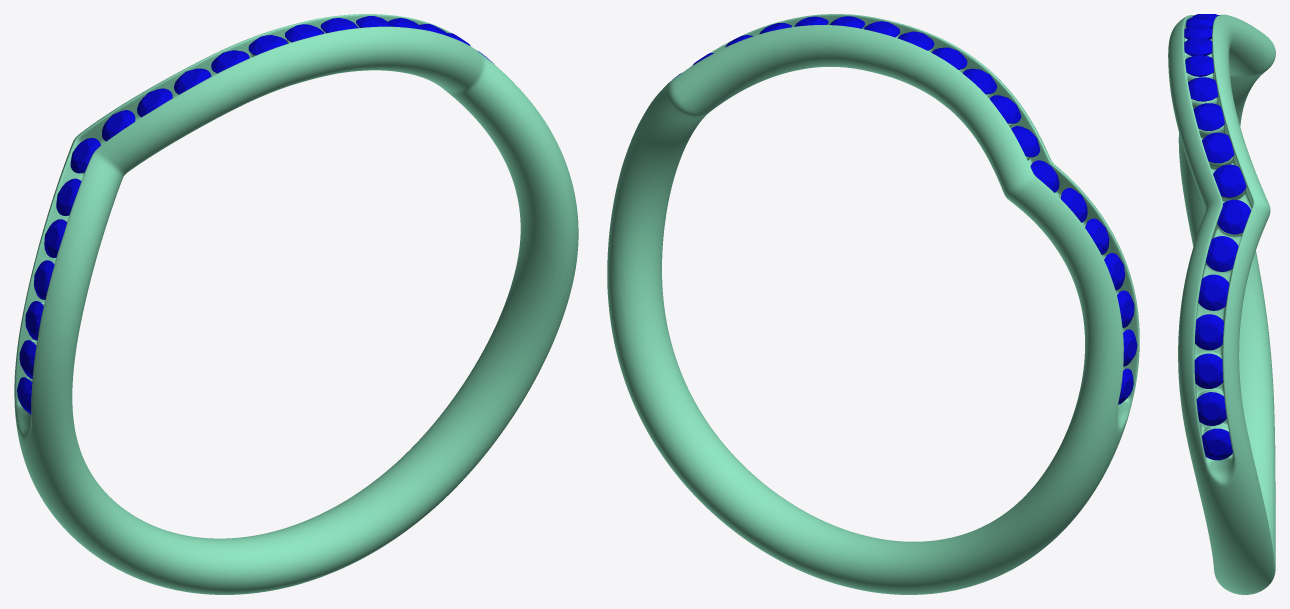
The picture shows the model from 3 angles, left to right: view 1: azimuth 30°, elevation 25°; view 2: azimuth 150°, elevation 25°; view 3: azimuth 270°, elevation 25°; orthographic projection. The views are drawn at different scales.
Visible parts, largest first — view 1: Metal03; view 2: Metal03; view 3: Metal03, Diamond_Band.011, Diamond_Band.010, Diamond_Band.012, Diamond_Band.009, Diamond_Band.003, Diamond_Band.008, Diamond_Band.007, Diamond_Band.002, Diamond_Band.001, Diamond_Band.006, Diamond_Band.005 (+4 smaller).
Boxes of the visible parts, x1,y1,x2,y2 form: Metal03: (14,14,578,594); Metal03: (607,14,1139,594); Metal03: (1168,14,1275,594); Diamond_Band.011: (1198,274,1229,310); Diamond_Band.010: (1195,314,1223,350); Diamond_Band.012: (1205,236,1238,271); Diamond_Band.009: (1194,353,1223,388); Diamond_Band.003: (1217,199,1250,234); Diamond_Band.008: (1196,392,1226,425); Diamond_Band.007: (1213,164,1246,197); Diamond_Band.002: (1202,428,1232,460); Diamond_Band.001: (1202,132,1234,163); Diamond_Band.006: (1193,103,1224,130); Diamond_Band.005: (1188,77,1218,101).
Size of the model in its own units: 20.69 by 20.78 by 3.85.
